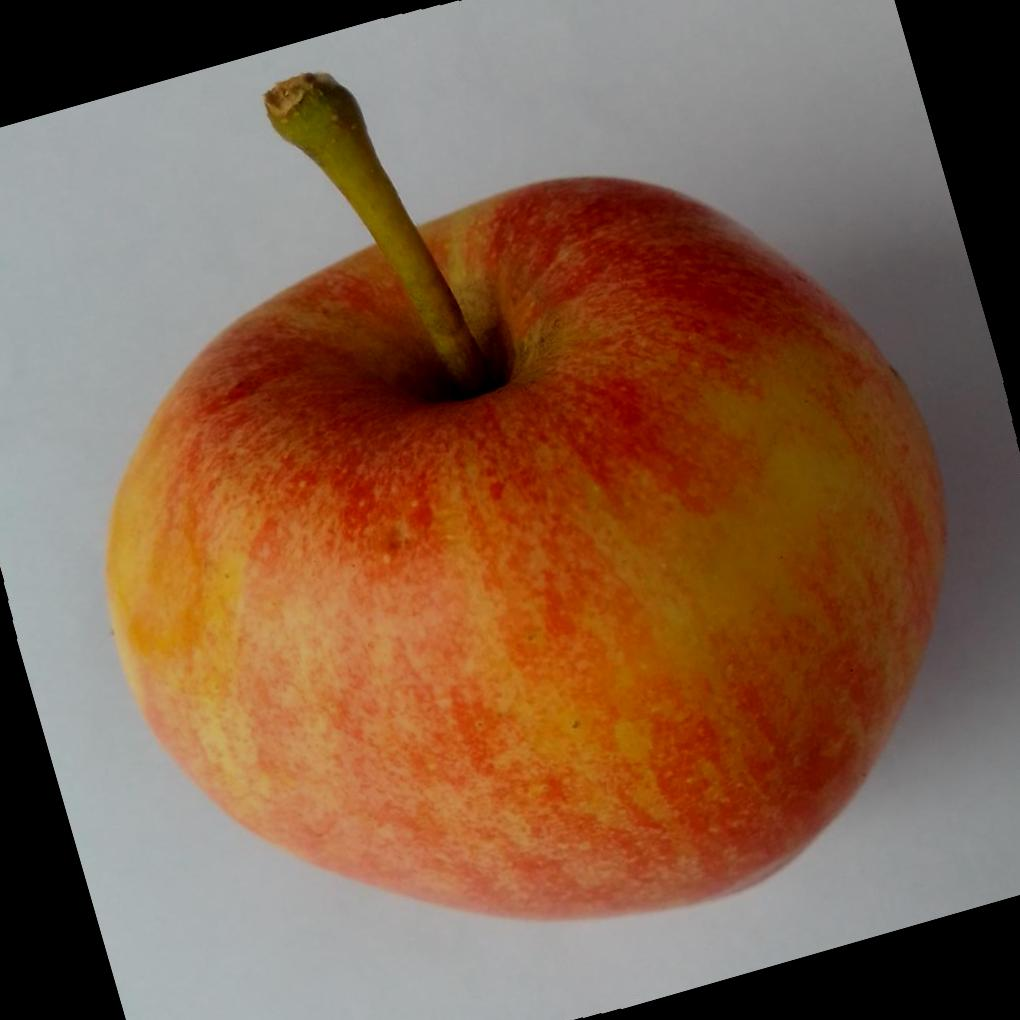FreshGuava: (104, 76, 952, 920)
